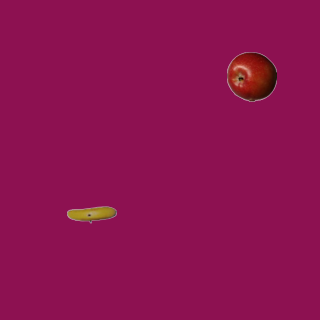Apple Braeburn: (226, 51, 276, 101)
Banana: (66, 189, 116, 239)
